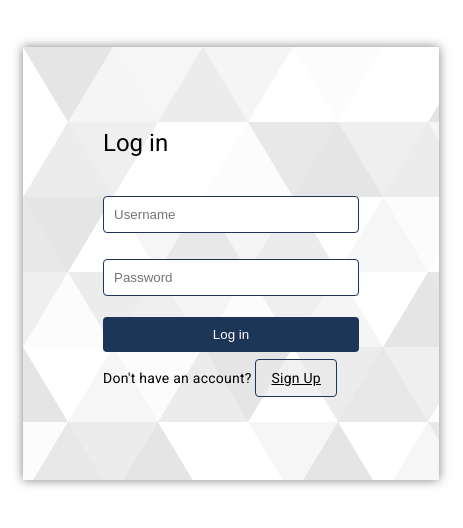
Test: Login Page Tests › should display an error message for invalid credentials
# Type into the username and password fields with invalid credentials
Type "wronguser" into the field with class "username". click: coordinates (231, 215)
box: x1=103 y1=196 x2=359 y2=233
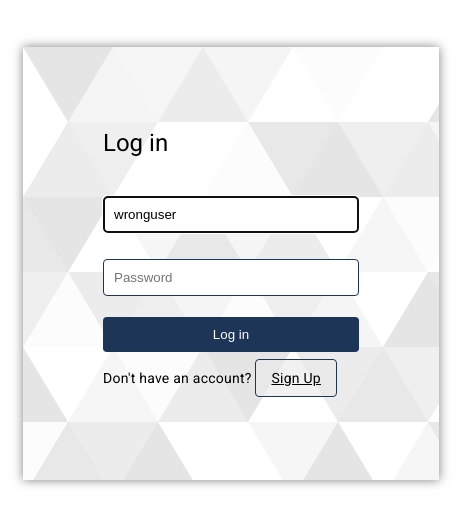
Type "wrongpassword" into the password field with placeholder "Password". click: coordinates (231, 278)
box: x1=103 y1=259 x2=359 y2=296
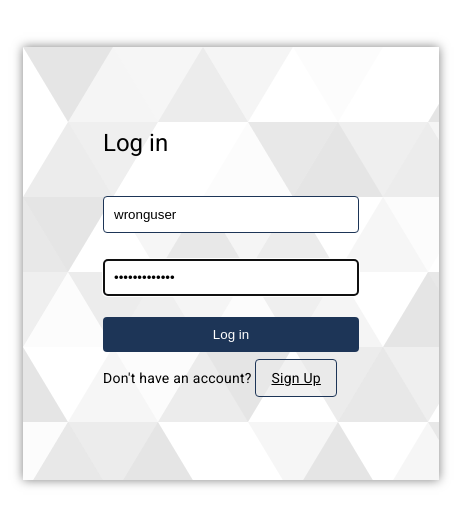
# Click the 'Log in' button
Click the button with class "submit". click: coordinates (231, 335)
box: x1=103 y1=317 x2=359 y2=352
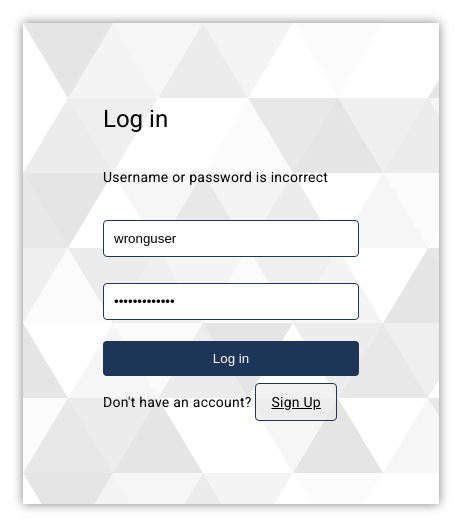
Check: the text "Username or password is incorrect" is shown, box x1=103 y1=166 x2=359 y2=186
